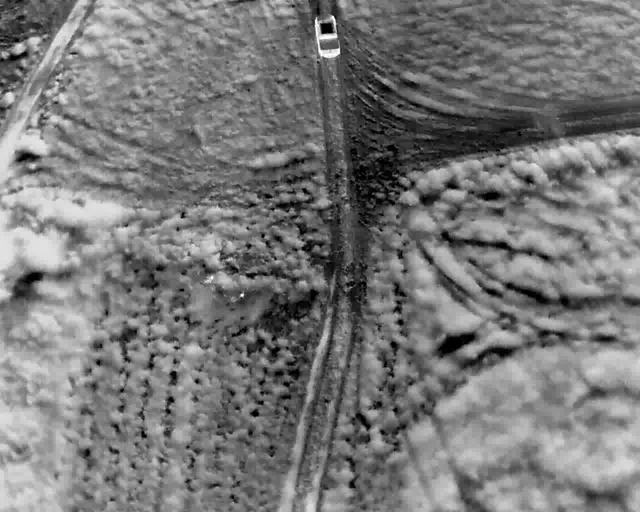car: (315, 13, 340, 59)
